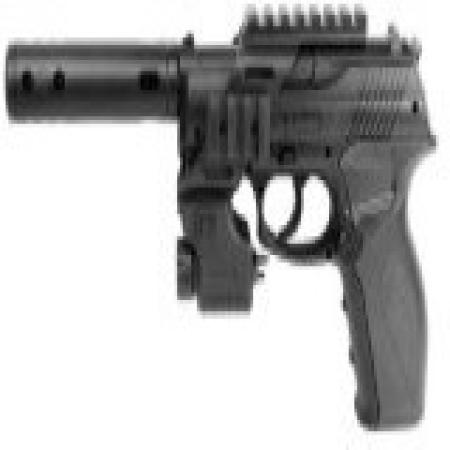Pistol: (9, 12, 441, 424)
